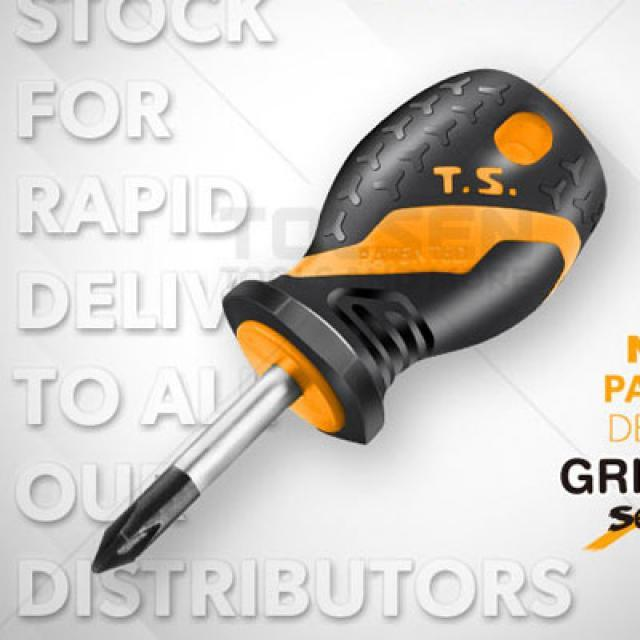screwdriver: (84, 66, 612, 585)
